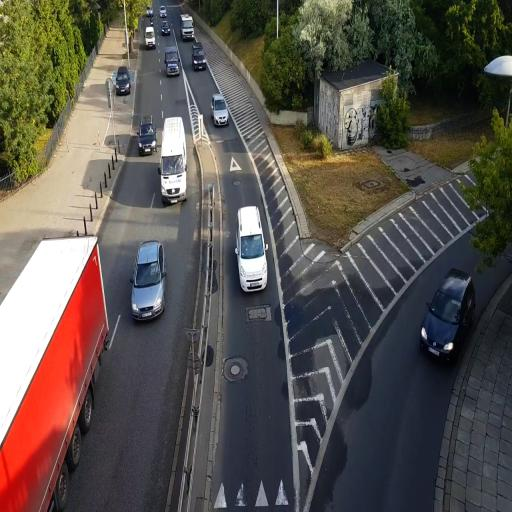vehicle: (0, 234, 110, 508), (420, 270, 476, 366), (130, 240, 167, 322), (235, 204, 268, 294), (160, 116, 188, 204), (138, 118, 156, 154), (211, 94, 229, 126), (162, 48, 180, 77), (113, 68, 131, 95), (180, 13, 195, 40), (192, 43, 206, 70)
